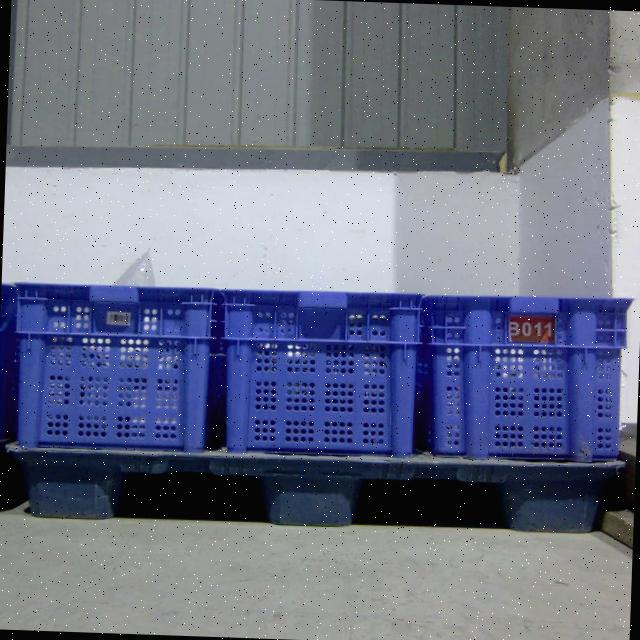block: (6, 448, 115, 518), (516, 464, 621, 532), (274, 456, 360, 524)
front: (6, 446, 624, 533)
hole pallet: (111, 467, 275, 525), (354, 484, 517, 523)
